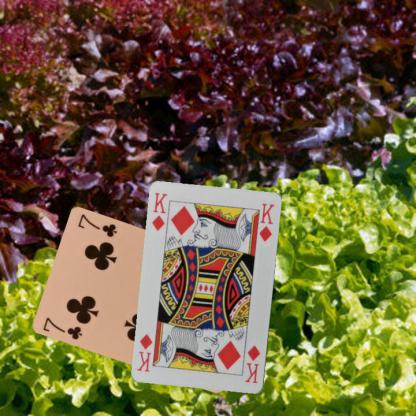7c: (40, 314, 84, 342)
Kd: (242, 343, 262, 385), (149, 190, 169, 232)
